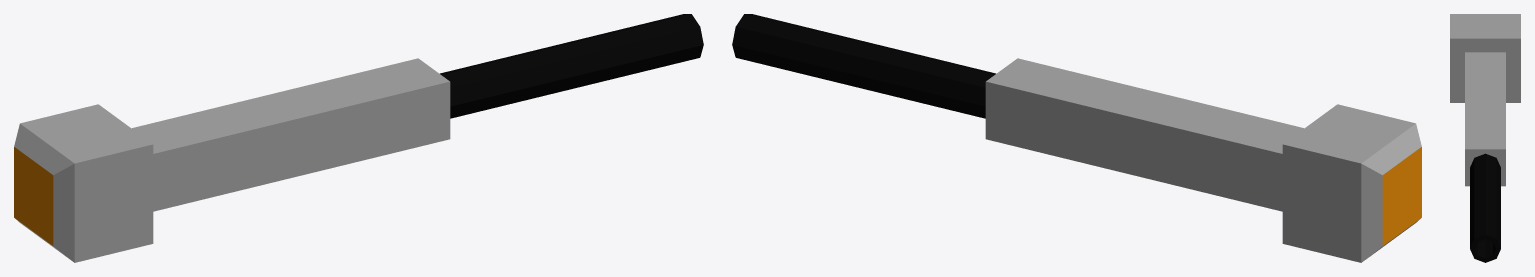
The model's file is JTV Utility Car Gun.obj.
3 views of the same model, side by side, from view 1: azimuth 30°, elevation 25°; view 2: azimuth 150°, elevation 25°; view 3: azimuth 270°, elevation 25° (orthographic). The views are drawn at different scales.
Visible parts, largest first — view 1: JTV-Gun_Cylinder.002; view 2: JTV-Gun_Cylinder.002; view 3: JTV-Gun_Cylinder.002.
Boxes of the visible parts, x1,y1,x2,y2 form: JTV-Gun_Cylinder.002: [14, 14, 703, 262]; JTV-Gun_Cylinder.002: [732, 14, 1421, 262]; JTV-Gun_Cylinder.002: [1450, 14, 1520, 262].
Bounding box in the file's own units: 4.21 × 0.6085 × 0.6085.
